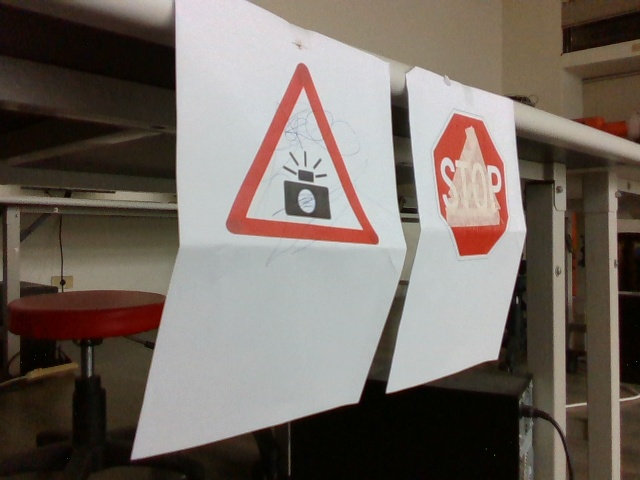camera: (223, 66, 381, 246)
stop: (434, 108, 508, 258)
